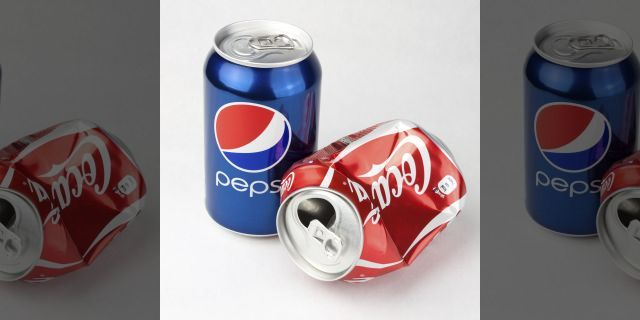pepsi: (533, 97, 610, 170), (214, 99, 290, 170)
